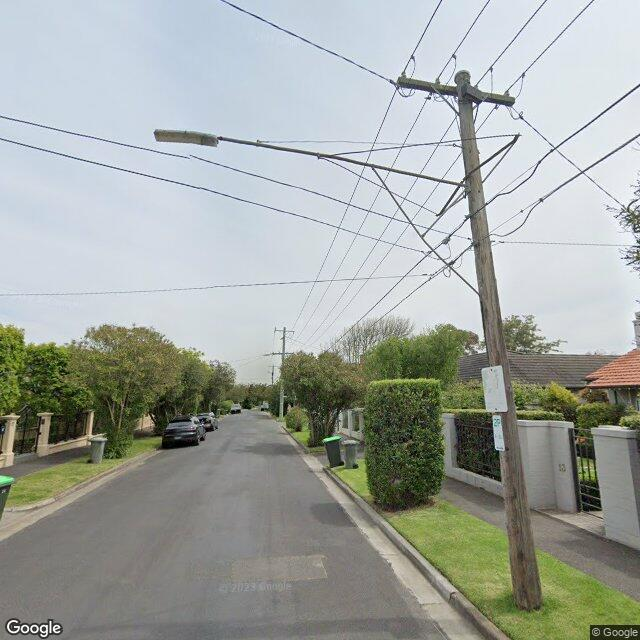HV-transmission: (274, 325, 295, 335)
crossarm: (398, 52, 528, 122), (272, 351, 294, 356), (276, 330, 293, 332)
streetlight: (153, 129, 469, 189)
timber-pole: (456, 69, 544, 611), (279, 327, 286, 418)
